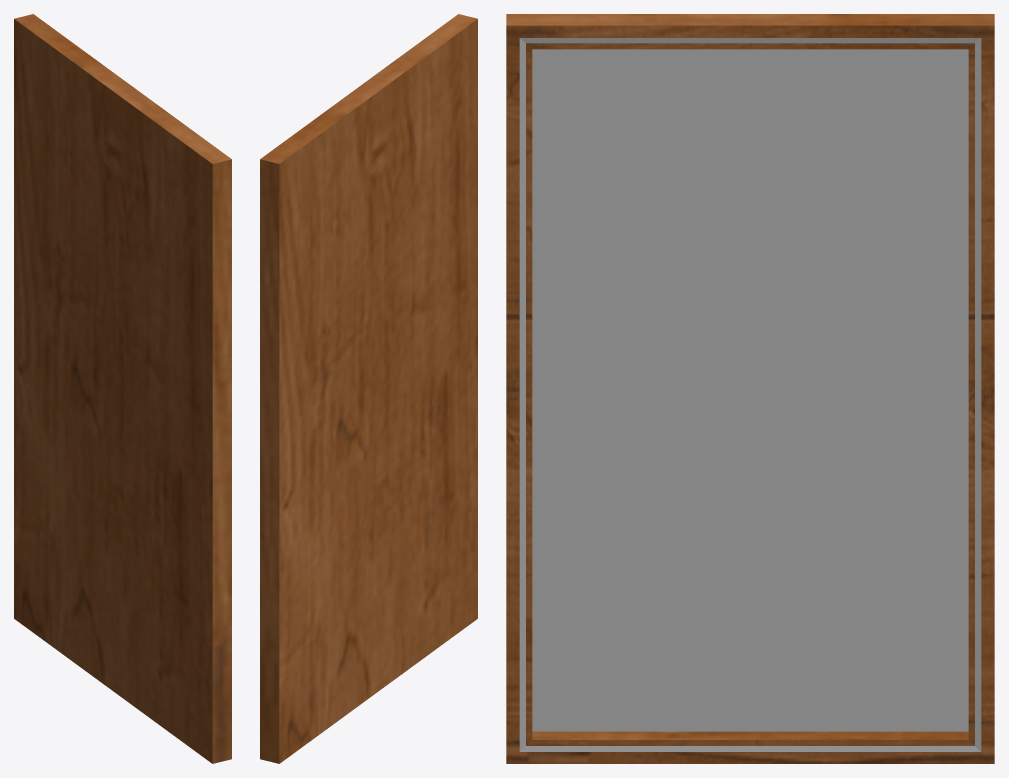
The model's file is M_Home_Garden_Painting_013.fbx.
3 views of the same model, side by side, from view 1: azimuth 30°, elevation 25°; view 2: azimuth 150°, elevation 25°; view 3: azimuth 270°, elevation 25° (orthographic). The views are drawn at different scales.
Parts seen in each view (by area): view 1: M_Home_Garden_Painting_013; view 2: M_Home_Garden_Painting_013; view 3: M_Home_Garden_Painting_013.
Boxes of the visible parts, box(x1,y1,x2,y2) form: M_Home_Garden_Painting_013: box(14, 14, 231, 763); M_Home_Garden_Painting_013: box(260, 14, 477, 763); M_Home_Garden_Painting_013: box(506, 14, 994, 763).
Bounding box in the file's own units: 5.03 × 145 × 87.01.
